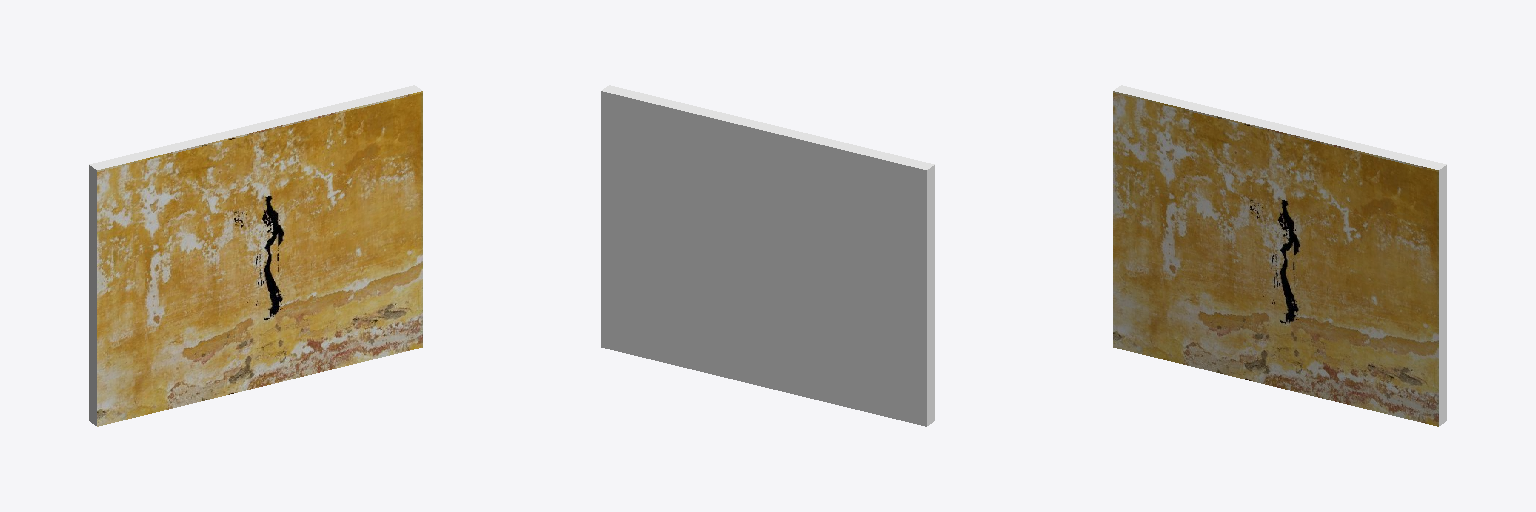
The picture shows the model from 3 angles: view 1: azimuth 30°, elevation 25°; view 2: azimuth 150°, elevation 25°; view 3: azimuth 330°, elevation 25°; orthographic projection.
Parts seen in each view (by area): view 1: canvas; view 2: canvas; view 3: canvas.
Part boxes in pixels (left/top/right/bottom): canvas: left=89, top=85, right=422, bottom=426; canvas: left=601, top=85, right=934, bottom=426; canvas: left=1113, top=85, right=1446, bottom=426.
Bounding box in the file's own units: 1.55 × 1.16 × 0.0662.
3 materials, 1 textured.